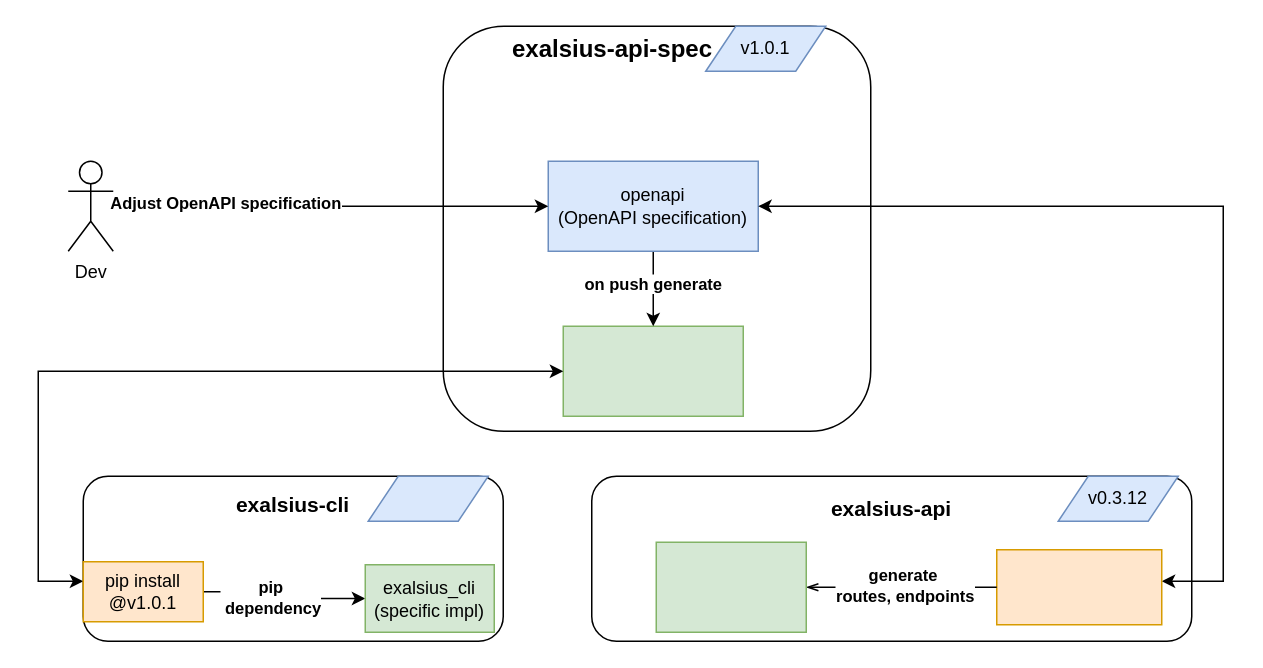
Some shapes in this 1263 by 668 pixel diagram are drawn without their labels. Here are the shapes that lost their labels. From the top down, the centre of each, then its label:
At (652,370): "client-sdk (Python API client)".
At (427,498): "v0.2.1".
At (730,586): "exalsius_api (specific impl)".
At (1078,586): "generate-server-stub.sh v1.0.1".
